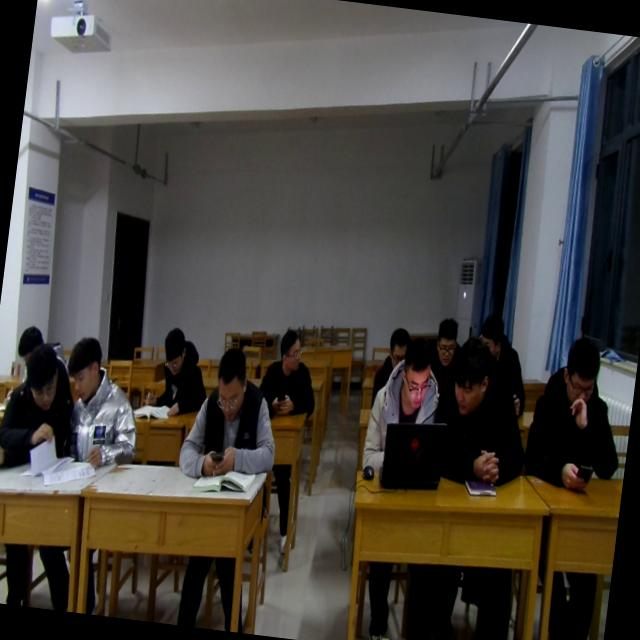down: (205, 343, 255, 428), (556, 330, 604, 411), (396, 335, 441, 415), (19, 341, 68, 413), (62, 332, 106, 403), (154, 321, 193, 381), (431, 308, 464, 369), (383, 321, 412, 371), (14, 320, 44, 364)
sit: (422, 334, 541, 495), (520, 332, 633, 496), (175, 342, 288, 486), (52, 332, 152, 476), (359, 329, 454, 479), (0, 336, 81, 477), (142, 320, 217, 418), (468, 308, 536, 416), (252, 324, 324, 423), (368, 321, 412, 416), (424, 316, 464, 410)
